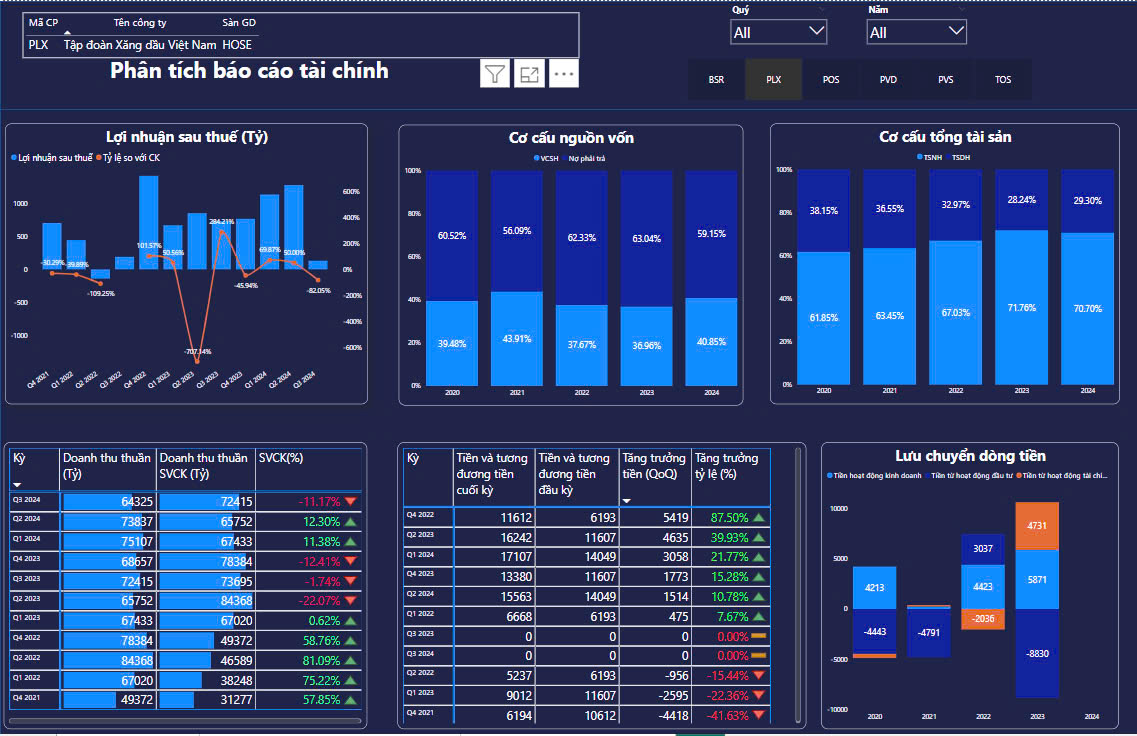

This screenshot's page, from the dashboard's own definition file:
{"tool":"powerbi","page":{"name":"Phân tích các báo cáo tài chính","canvas":[2100,1400],"ordinal":1},"visuals":[{"type":"shape","box":[0,0,2800,1802],"z":0},{"type":"shape","title":"OverView","box":[0,0,2800,197.4],"z":1000},{"type":"slicer","fields":{"Values":["dim_company.symbol"]},"box":[1228.3,100,671.7,84.8],"z":2000},{"type":"tableEx","fields":{"Values":["dim_company.symbol","dim_company.organ_name","dim_exchange.exchange"]},"box":[40.4,21.2,1013.5,82.7],"z":3000},{"type":"hundredPercentStackedColumnChart","title":"Cơ cấu tổng tài sản","fields":{"Category":["dim_date.year"],"Y":["fact_financialaccount.TSNH","fact_financialaccount.TSDH"]},"box":[1400,222,636,510],"z":4000},{"type":"lineClusteredColumnComboChart","title":"Lợi nhuận sau thuế (Tỷ)","fields":{"Category":["dim_date.QuarterYear"],"Y":["fact_financialaccount.Lợi nhuận sau thuế"],"Y2":["fact_financialaccount.%LoinhuanSVCK"]},"box":[8.9,222.2,680,544.4],"z":5000},{"type":"hundredPercentStackedColumnChart","title":"Cơ cấu nguồn vốn","fields":{"Category":["dim_date.year"],"Y":["fact_financialaccount.VCSH","fact_financialaccount.Nợ phải trả"]},"box":[724,224,626,510],"z":6000},{"type":"pivotTable","fields":{"Rows":["dim_date.QuarterYear"],"Values":["fact_financialaccount.Doanh thu thuần","fact_financialaccount.DoanhThuCungKyNamTruoc","fact_financialaccount.TyLeThayDoi"]},"box":[7.8,802,660.8,521.6],"z":7000},{"type":"columnChart","title":"Lưu chuyển dòng tiền","fields":{"Category":["dim_date.year"],"Y":["fact_financialaccount.Tiền hoạt động kinh doanh","fact_financialaccount.Tiền từ hoạt động đầu tư","fact_financialaccount.Tiền từ hoạt động tài chính"]},"box":[1494.1,802,541.2,521.6],"z":8000},{"type":"pivotTable","fields":{"Rows":["dim_date.QuarterYear"],"Values":["fact_financialaccount.Tiền và tương đương tiền cuối kỳ","fact_financialaccount.Tiền và tương đương tiền đầu kỳ","fact_financialaccount.Tăng trưởng tiền (QoQ)","fact_financialaccount.Tăng trưởng tỷ lệ (%)"]},"box":[723.5,802,743.1,521.6],"z":9000},{"type":"slicer","fields":{"Values":["dim_date.quarter"]},"box":[1317.4,0,195.7,93.5],"z":10000},{"type":"slicer","fields":{"Values":["dim_date.year"]},"box":[1565.2,0,202.2,93.5],"z":11000}]}

Visuals, with their boxes in screenshot pixels (x1, y1, x2, y2), scaled from the page's 2100x1400 canvas onto the 1137x736 screenshot:
shape: 0,0,1136,735
"OverView" shape: 0,0,1136,104
slicer - dim_company.symbol: 665,53,1029,97
tableEx - dim_company.symbol x dim_company.organ_name: 22,11,571,55
"Cơ cấu tổng tài sản" hundredPercentStackedColumnChart: 758,117,1102,385
"Lợi nhuận sau thuế (Tỷ)" lineClusteredColumnComboChart: 5,117,373,403
"Cơ cấu nguồn vốn" hundredPercentStackedColumnChart: 392,118,731,386
pivotTable - dim_date.QuarterYear x fact_financialaccount.Doanh thu thuần: 4,422,362,696
"Lưu chuyển dòng tiền" columnChart: 809,422,1102,696
pivotTable - dim_date.QuarterYear x fact_financialaccount.Tiền và tương đương tiền cuối kỳ: 392,422,794,696
slicer - dim_date.quarter: 713,0,819,49
slicer - dim_date.year: 847,0,957,49
